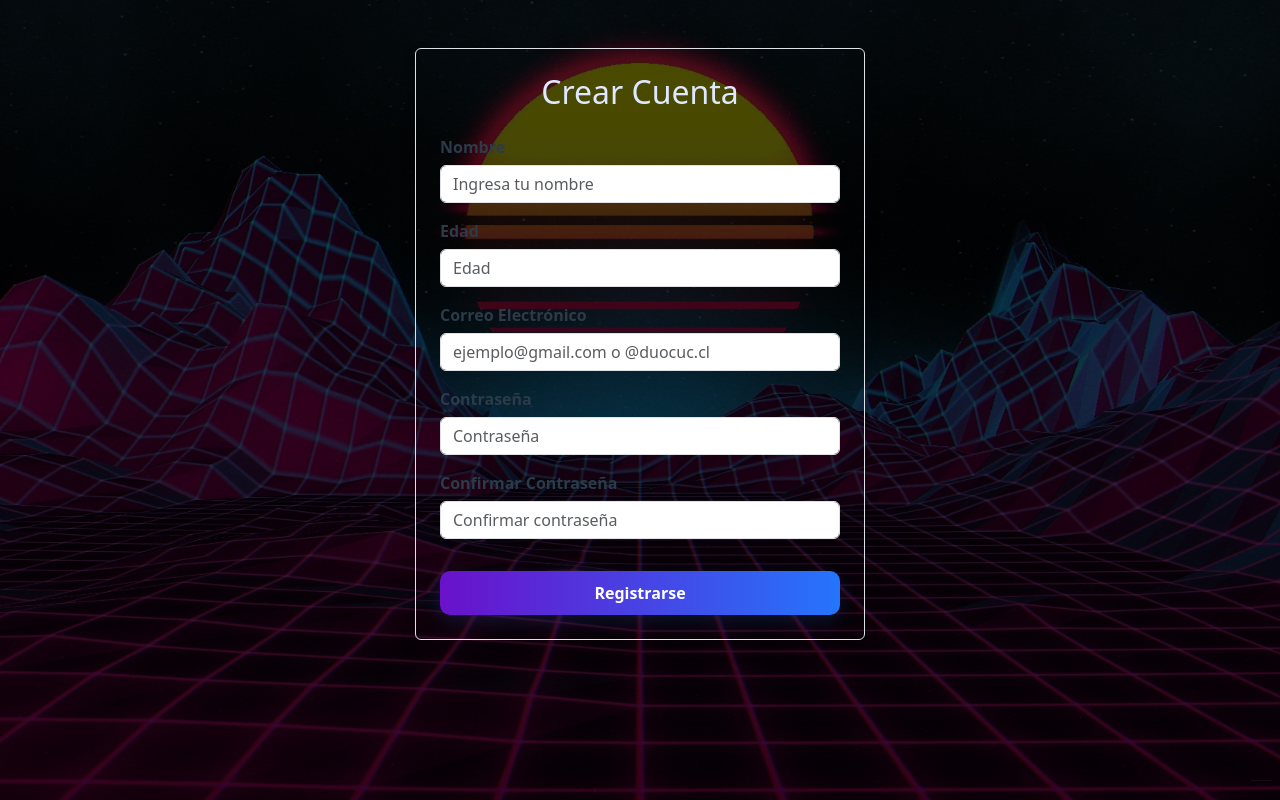
Test: Componente Registro › muestra error si el usuario es menor de edad
The image size is (1280, 800).
In the field with placeholder "Ingresa tu nombre": coordinates (640, 184) left=440, top=165, right=840, bottom=203, type "Jose"
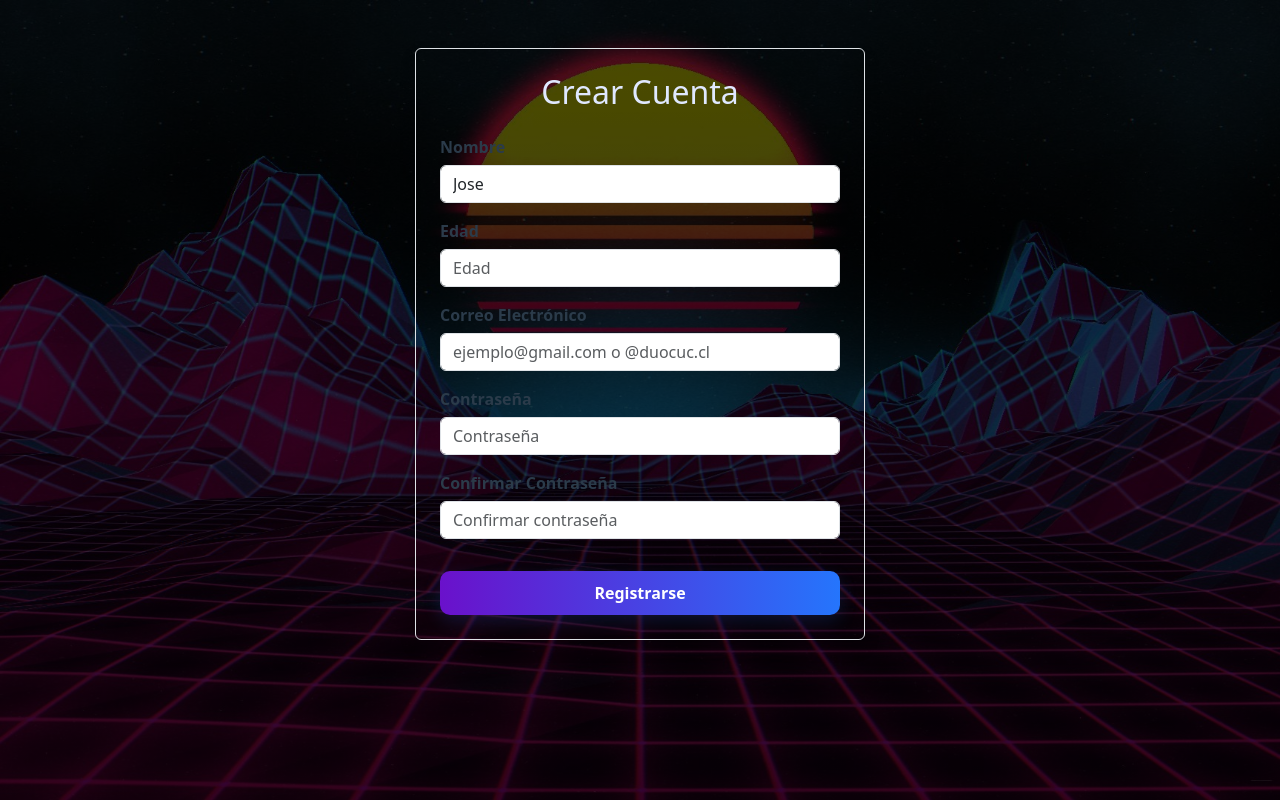
In the number field with placeholder "Edad": coordinates (640, 268) left=440, top=249, right=840, bottom=287, type "17"
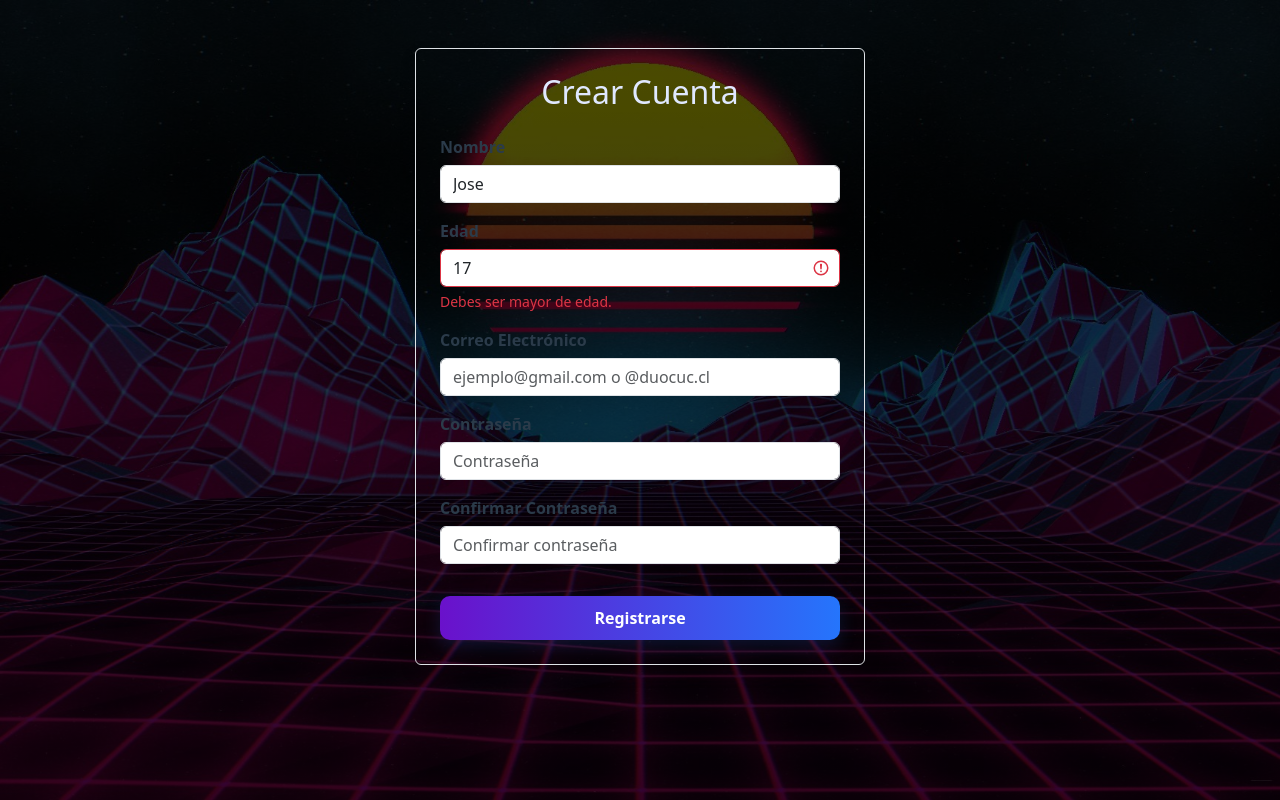
In the field with placeholder "ejemplo@gmail.com o @duocuc.cl": coordinates (640, 377) left=440, top=358, right=840, bottom=396, type "jose@gmail.com"
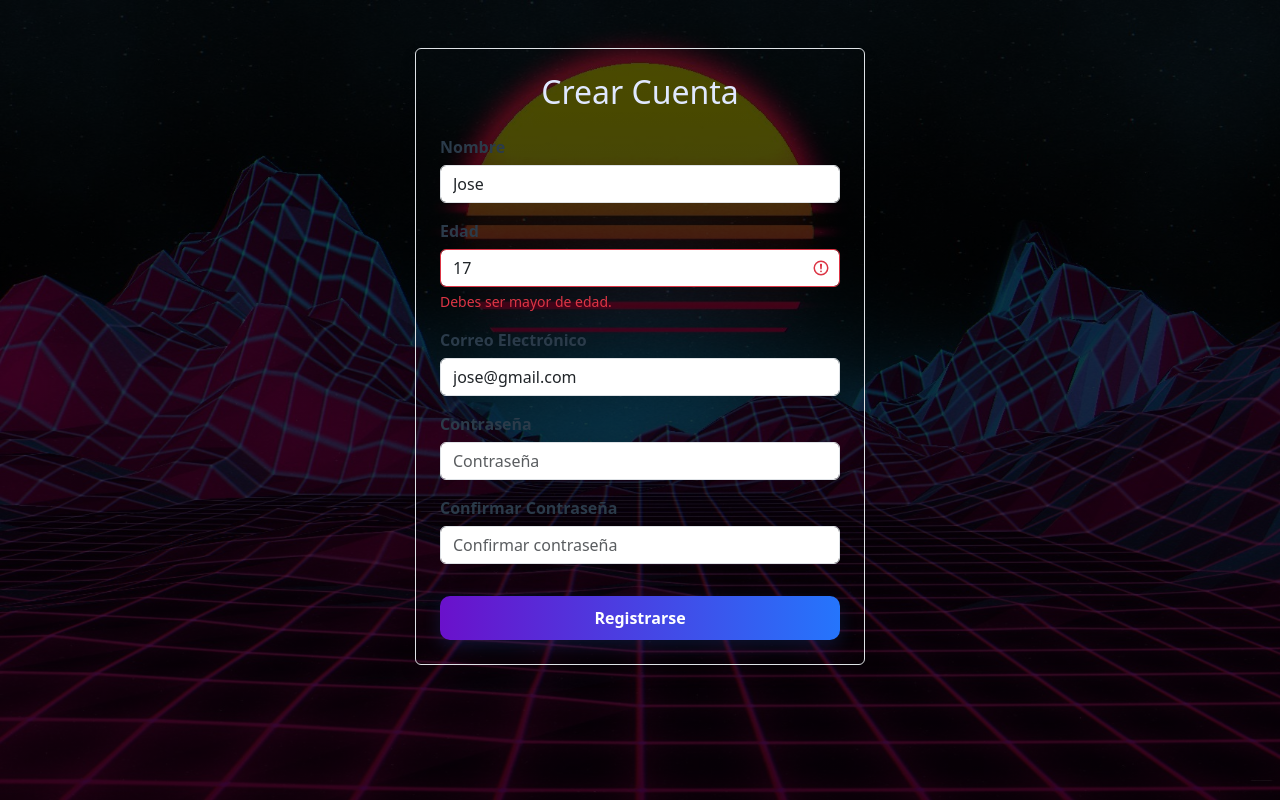
Click the button "Registrarse": coordinates (640, 618) left=440, top=596, right=840, bottom=640
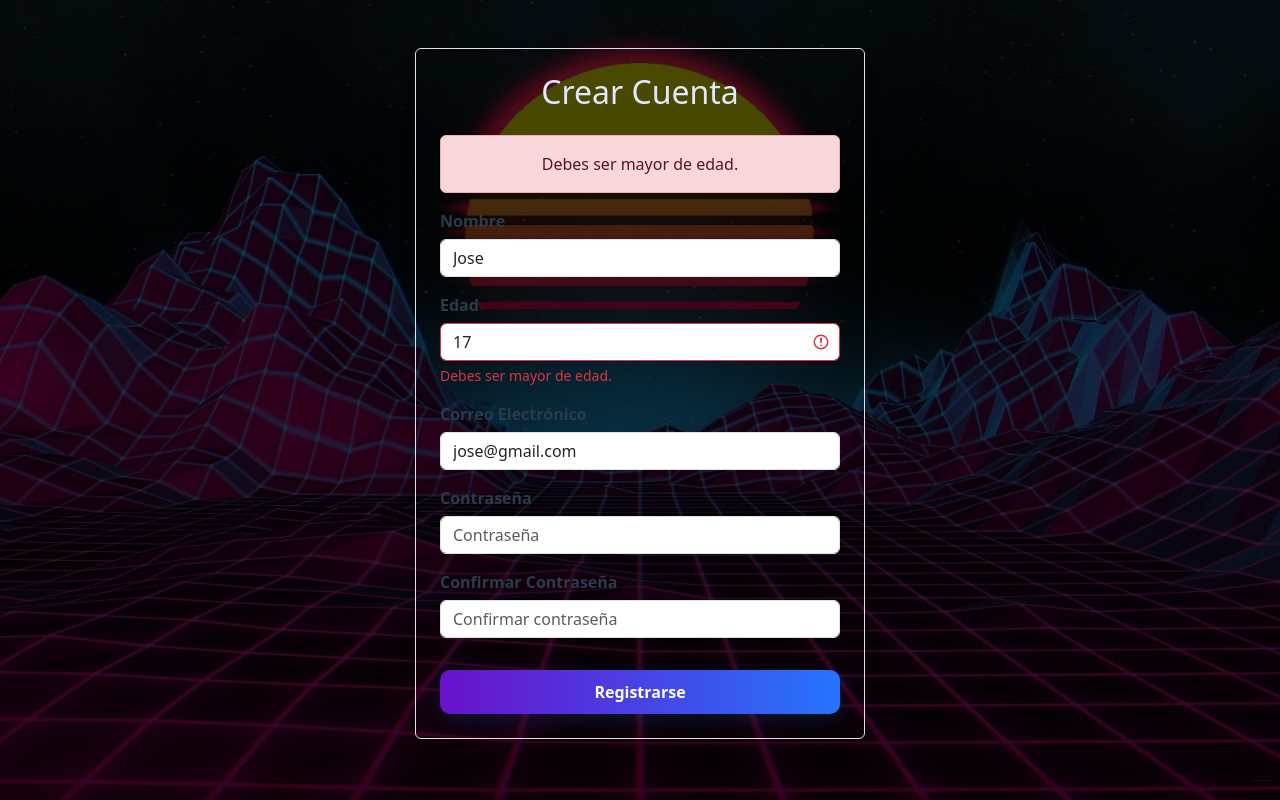
Check: the text "Debes ser mayor de edad." is shown 2 times, box left=440, top=135, right=840, bottom=193; left=440, top=366, right=612, bottom=385
